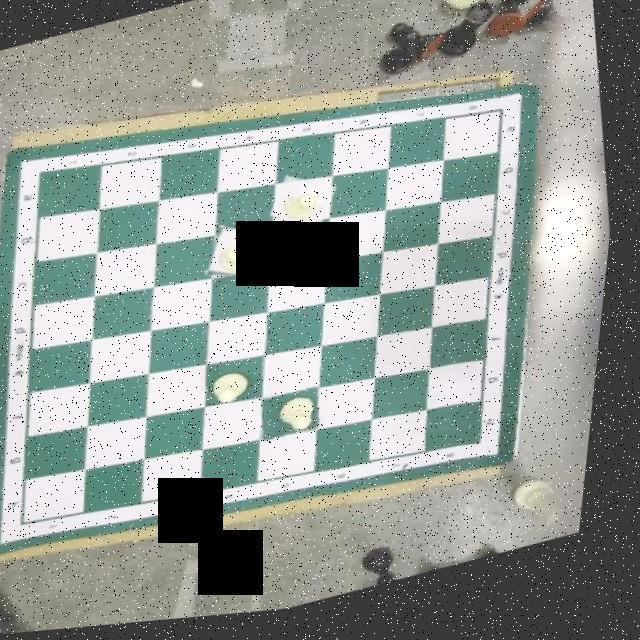chess-table-corners: (464, 430, 514, 472), (14, 504, 62, 546), (481, 96, 524, 142), (25, 153, 65, 195)
